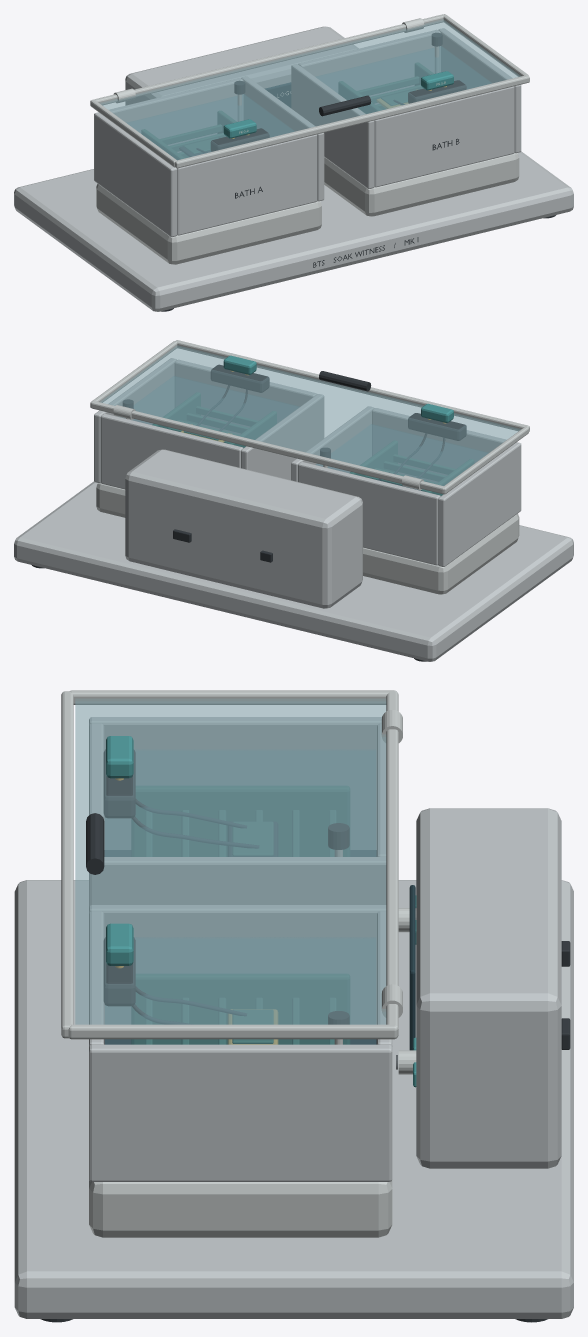
Rendered from soak-witness.glb.
The picture shows the model from 3 angles, top to bottom: view 1: azimuth 30°, elevation 25°; view 2: azimuth 150°, elevation 25°; view 3: azimuth 270°, elevation 25°; orthographic projection. The views are drawn at different scales.
Visible parts, largest first — view 1: BENCH_DATUM, lid_glazing, B_LIP, A_LIP, A_BLOCK, A_BANK, logger_body, B_BLOCK, B_WATER, A_WATER, B_LIP.001, B_BANK (+15 smaller); view 2: BENCH_DATUM, logger_body, lid_glazing, A_LIP.001, A_BANK, B_WATER, A_WATER, B_LIP.001, A_BLOCK, B_LIP, A_LIP, B_BANK (+18 smaller); view 3: lid_glazing, BENCH_DATUM, logger_body, B_BANK.001, A_WATER, B_WATER, A_BANK, B_BANK, B_BLOCK, A_BANK.001, A_RACK, B_RACK (+15 smaller).
Part boxes in pixels (bbox=[...]): BENCH_DATUM: bbox=[14, 151, 573, 311]; lid_glazing: bbox=[100, 19, 520, 160]; B_LIP: bbox=[374, 86, 514, 187]; A_LIP: bbox=[177, 134, 317, 235]; A_BLOCK: bbox=[96, 183, 321, 264]; A_BANK: bbox=[94, 112, 177, 237]; logger_body: bbox=[125, 26, 358, 105]; B_BLOCK: bbox=[324, 153, 519, 216]; B_WATER: bbox=[316, 46, 490, 113]; A_WATER: bbox=[127, 94, 293, 159]; B_LIP.001: bbox=[298, 30, 440, 104]; B_BANK: bbox=[291, 64, 374, 188]; BENCH_DATUM: bbox=[14, 481, 573, 661]; logger_body: bbox=[125, 449, 362, 608]; lid_glazing: bbox=[100, 345, 520, 485]; A_LIP.001: bbox=[298, 462, 440, 565]; A_BANK: bbox=[438, 442, 521, 566]; B_WATER: bbox=[120, 376, 298, 447]; A_WATER: bbox=[315, 424, 487, 495]; B_LIP.001: bbox=[100, 413, 243, 489]; A_BLOCK: bbox=[363, 513, 519, 594]; B_LIP: bbox=[175, 360, 316, 434]; A_LIP: bbox=[372, 408, 505, 482]; B_BANK: bbox=[241, 394, 323, 480]; lid_glazing: bbox=[75, 699, 386, 1024]; BENCH_DATUM: bbox=[14, 880, 573, 1318]; logger_body: bbox=[416, 808, 561, 1168]; B_BANK.001: bbox=[89, 1044, 392, 1181]; A_WATER: bbox=[105, 750, 375, 856]; B_WATER: bbox=[105, 938, 375, 1044]; A_BANK: bbox=[89, 717, 381, 849]; B_BANK: bbox=[89, 905, 385, 1024]; B_BLOCK: bbox=[89, 1179, 392, 1237]; A_BANK.001: bbox=[89, 857, 385, 906]; A_RACK: bbox=[131, 786, 349, 856]; B_RACK: bbox=[131, 974, 350, 1044].
Size of the model in its own units: 0.62 by 0.213 by 0.3655.
